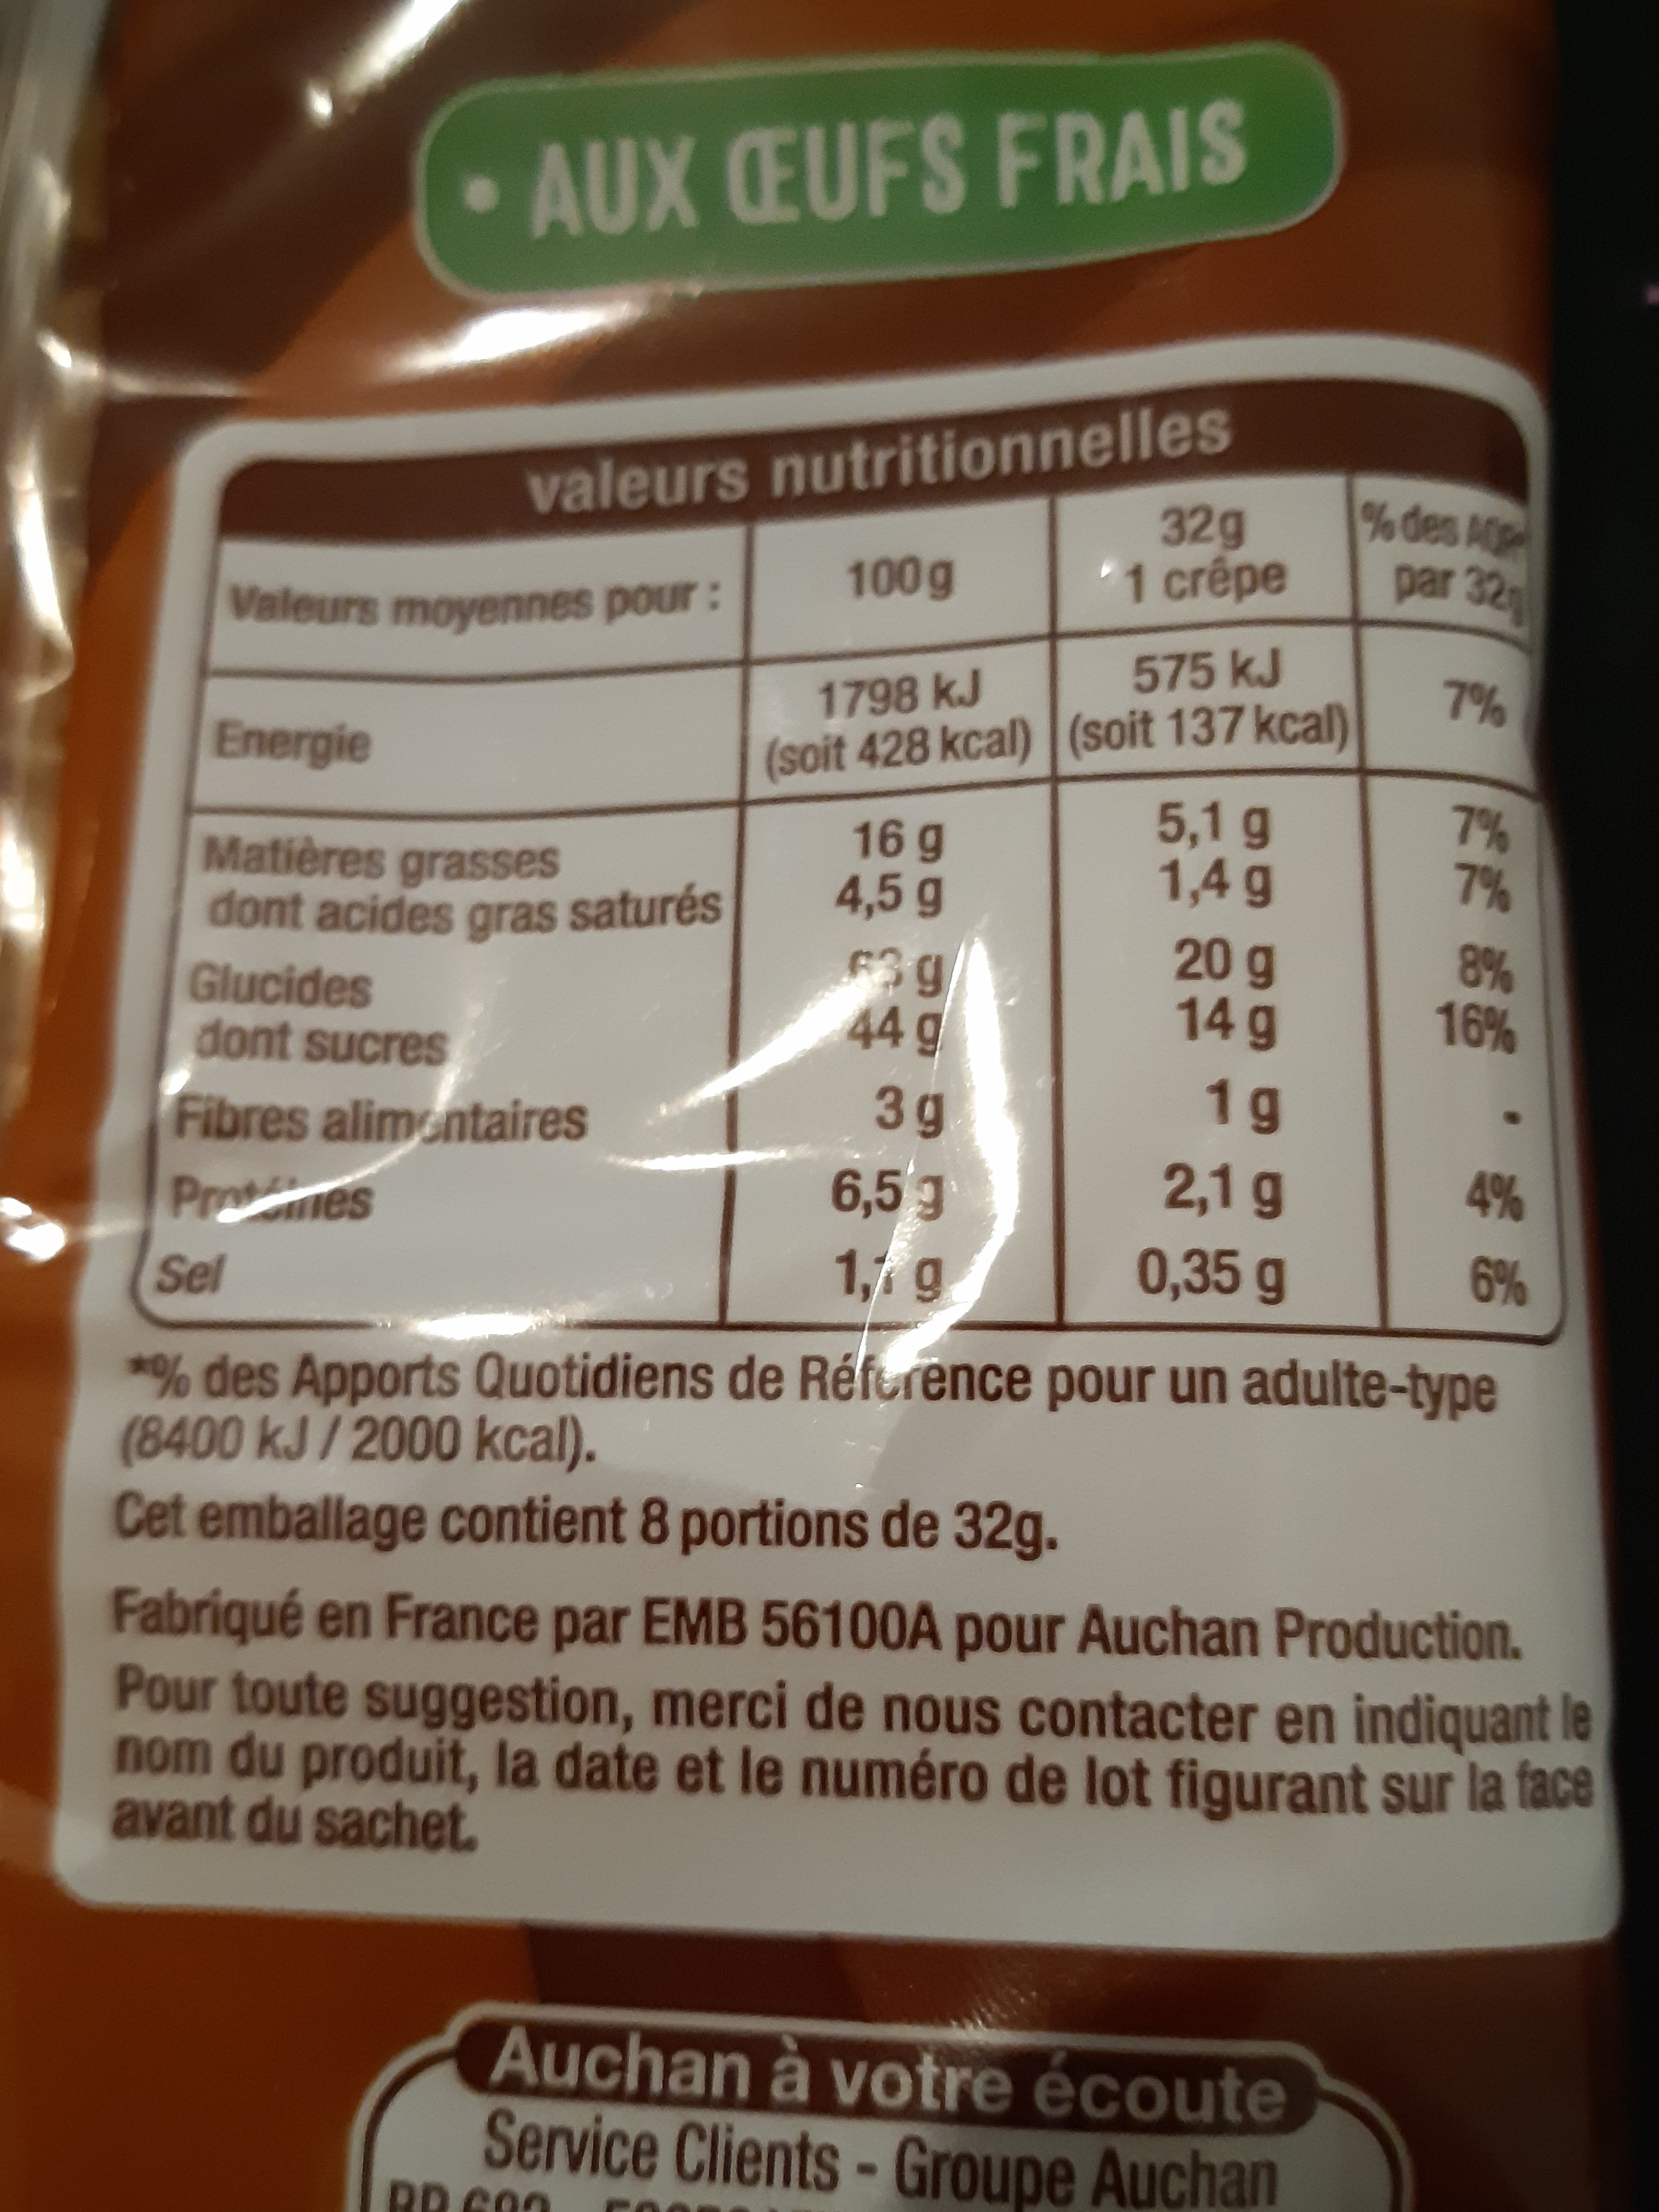column: (164, 538, 732, 1301), (1075, 496, 1340, 1312), (763, 521, 1032, 1308), (1364, 496, 1558, 1322)
table: (146, 369, 1575, 1362)
